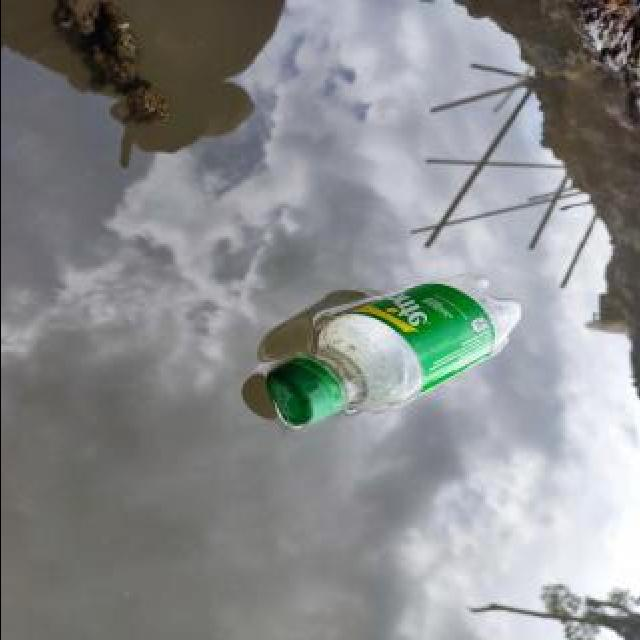Bottle: (259, 269, 526, 434)
